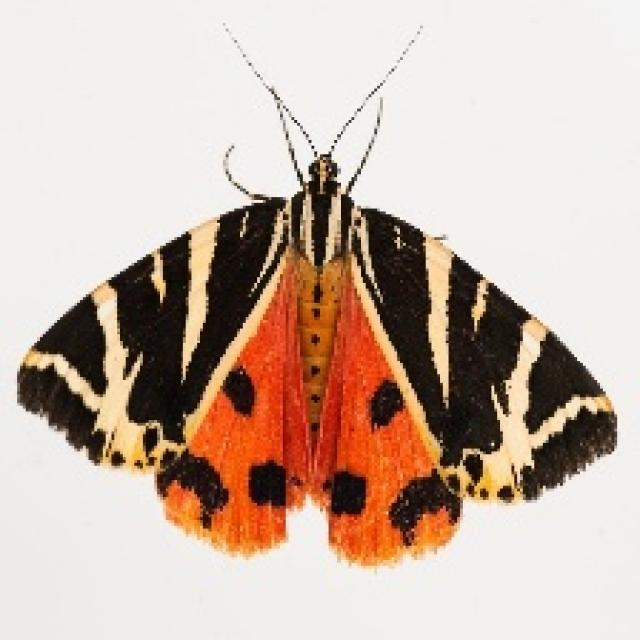butterfly: (14, 17, 617, 566)
